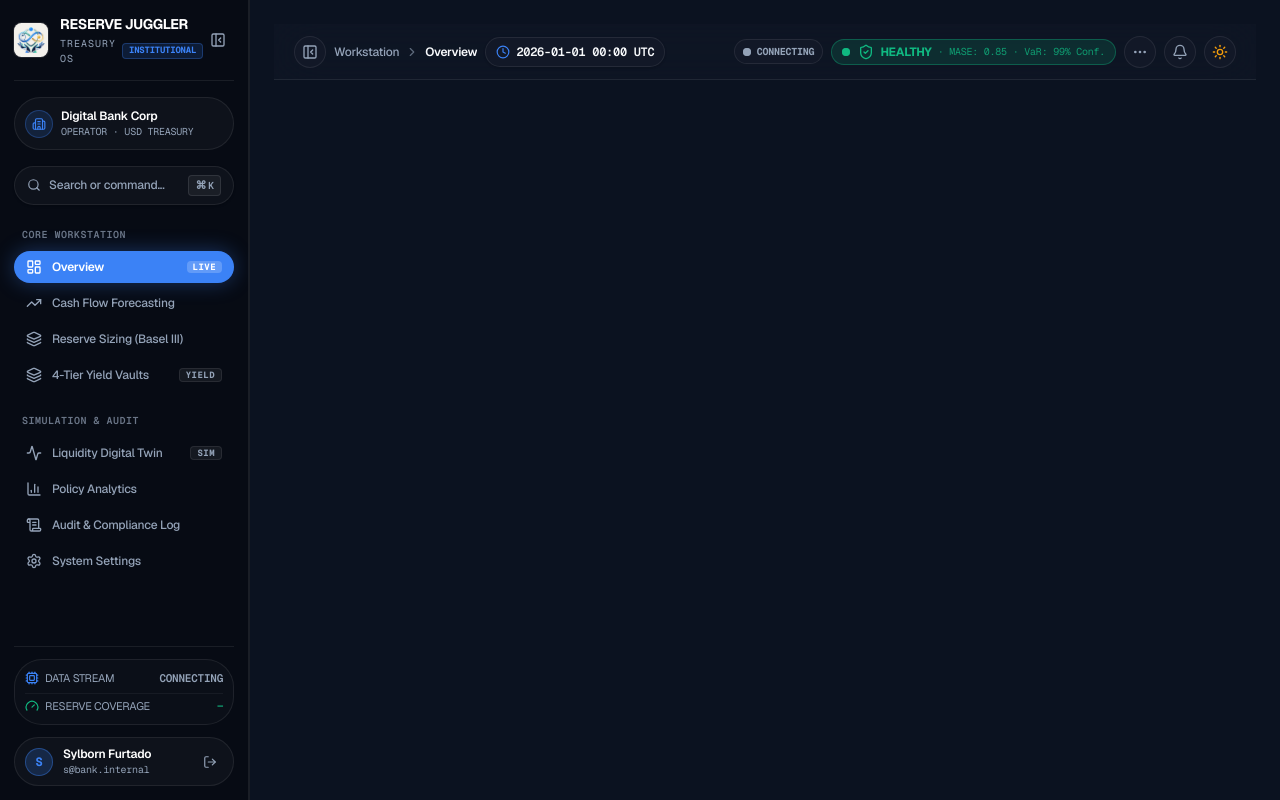
Test: collapsible sidebar › starts expanded, collapses to an icon rail and expands again from the sidebar button
Check: the text "Overview" next to "LIVE" is shown, box [52,259,104,275]
Step 1. Click the button with test id "sidebar-collapse" → (218, 40), box [202,24,234,56]
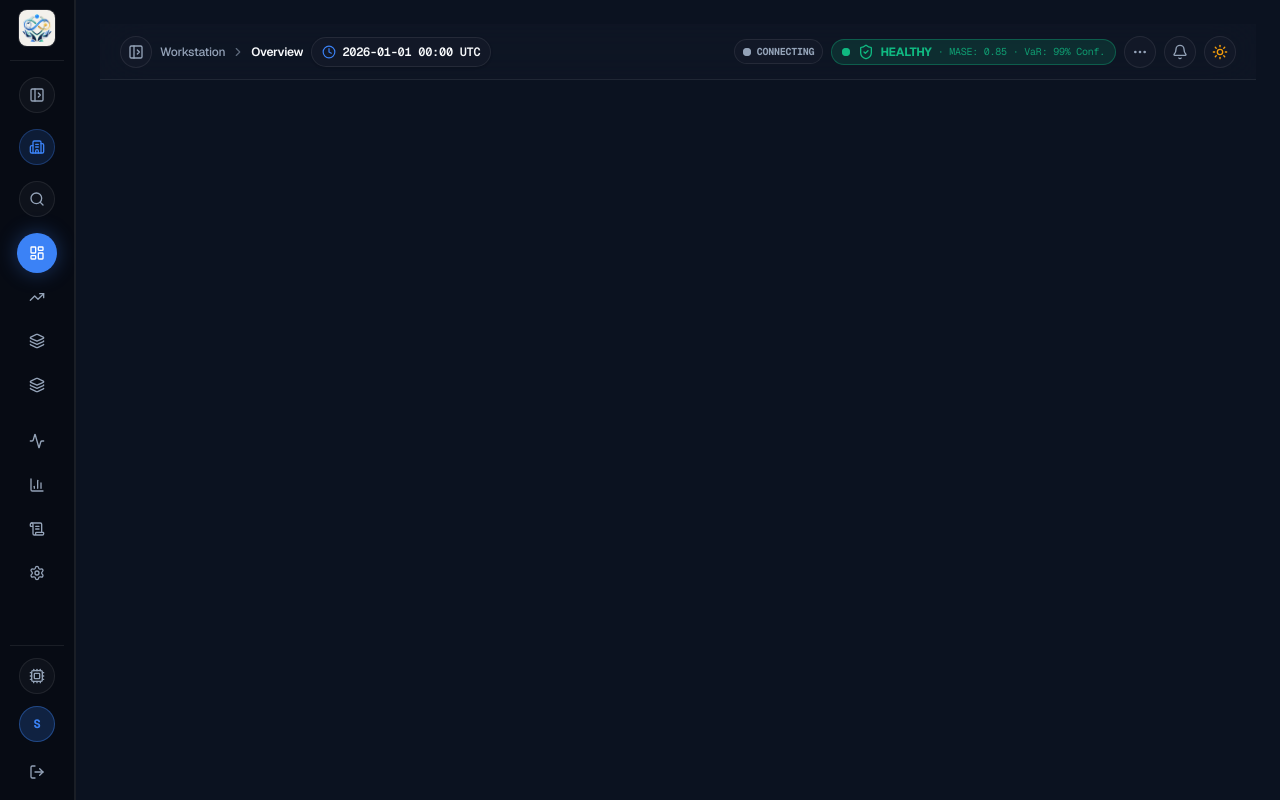
Check: the link named "Overview" is shown, box [17,233,57,273]
Check: the text "Cash Flow Forecasting" is gone
Step 2. Click the button with test id "sidebar-expand" → (37, 95), box [19,77,55,113]
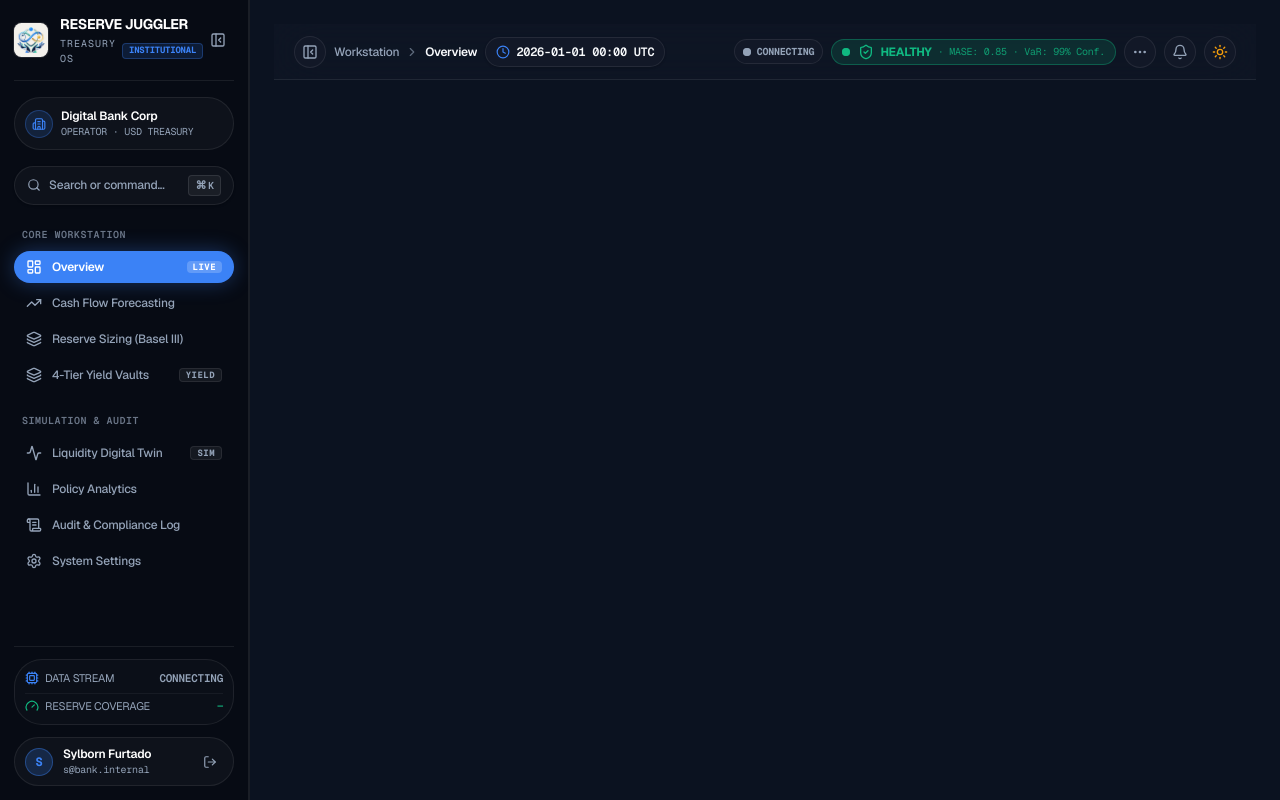
Check: the text "Cash Flow Forecasting" is shown, box [52,295,175,311]
